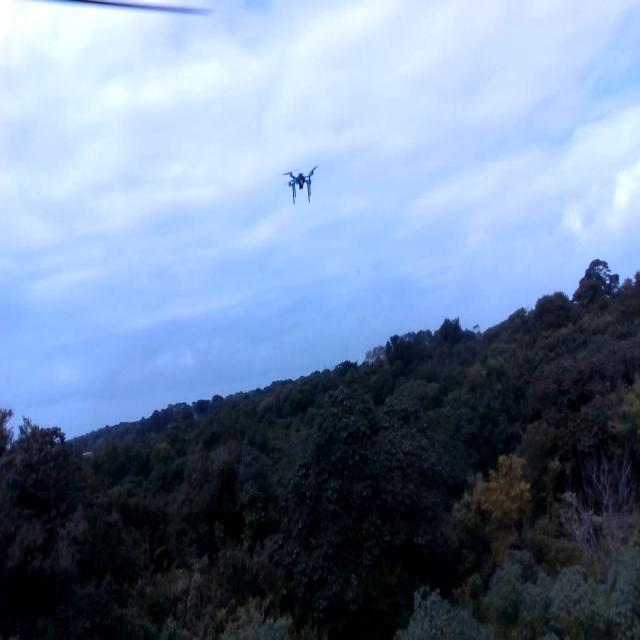-uav-: (276, 161, 328, 209)
